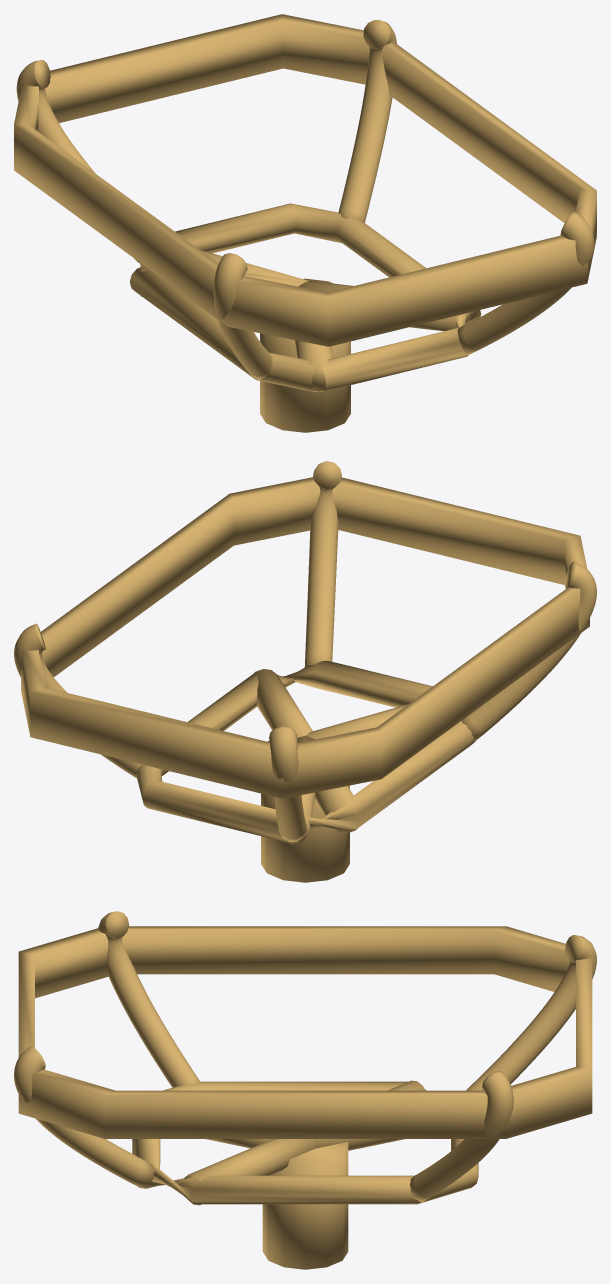
Rendered from stuller-lg-500060535-bezel.glb.
3 views of the same model, one above another, from view 1: azimuth 30°, elevation 25°; view 2: azimuth 150°, elevation 25°; view 3: azimuth 270°, elevation 25° (orthographic). The views are drawn at different scales.
Parts seen in each view (by area): view 1: Metal.094, Metal.089, Metal.095, Metal.088, Metal.098, Metal.097, Metal.096, Metal.093, Metal.090, Metal.091; view 2: Metal.094, Metal.089, Metal.098, Metal.088, Metal.097, Metal.096, Metal.090, Metal.095, Metal.093, Metal.092; view 3: Metal.094, Metal.089, Metal.088, Metal.097, Metal.096, Metal.095, Metal.098, Metal.090, Metal.091.
Boxes of the visible parts, x1,y1,x2,y2 form: Metal.094: (14, 14, 596, 346); Metal.089: (130, 203, 481, 392); Metal.095: (338, 20, 396, 222); Metal.088: (260, 278, 350, 432); Metal.098: (457, 211, 594, 354); Metal.097: (213, 253, 272, 380); Metal.096: (16, 60, 139, 263); Metal.093: (295, 282, 332, 393); Metal.090: (306, 281, 463, 331); Metal.091: (140, 250, 308, 281); Metal.094: (21, 477, 589, 798); Metal.089: (136, 661, 475, 843); Metal.098: (304, 461, 341, 667); Metal.088: (261, 740, 349, 882); Metal.097: (461, 562, 596, 740); Metal.096: (269, 726, 306, 841); Metal.090: (253, 669, 312, 737); Metal.095: (14, 623, 141, 778); Metal.093: (306, 704, 408, 739); Metal.092: (305, 736, 357, 833); Metal.094: (18, 926, 592, 1138); Metal.089: (132, 1081, 478, 1204); Metal.088: (262, 1142, 348, 1269); Metal.097: (98, 911, 200, 1087); Metal.096: (466, 935, 596, 1090); Metal.095: (409, 1071, 513, 1202); Metal.098: (14, 1046, 154, 1188); Metal.090: (184, 1139, 314, 1205); Metal.091: (313, 1139, 404, 1150).
Size of the model in its own units: 5.87 by 4.02 by 8.16.
